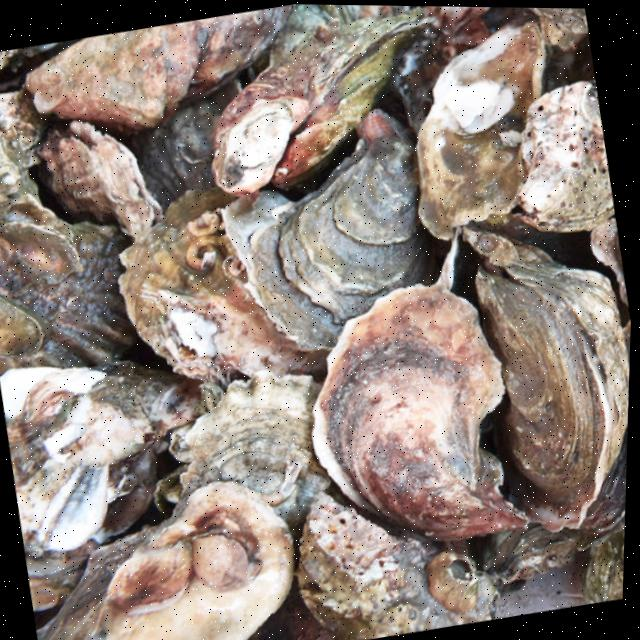Oyster-Closed: (309, 283, 527, 540), (222, 111, 438, 349), (210, 6, 436, 192), (35, 122, 163, 237), (183, 4, 296, 105), (106, 541, 192, 615), (0, 90, 47, 203), (0, 223, 78, 281), (191, 530, 260, 591), (0, 289, 46, 358), (530, 8, 588, 61)
Oyster-Indeterminate: (463, 228, 629, 530), (118, 189, 330, 381), (0, 362, 201, 551), (86, 481, 293, 640), (177, 370, 347, 548), (297, 495, 500, 640), (416, 20, 545, 238), (0, 172, 138, 374), (23, 18, 210, 132), (516, 80, 614, 232)
Oyster-Open: (106, 68, 253, 217)
